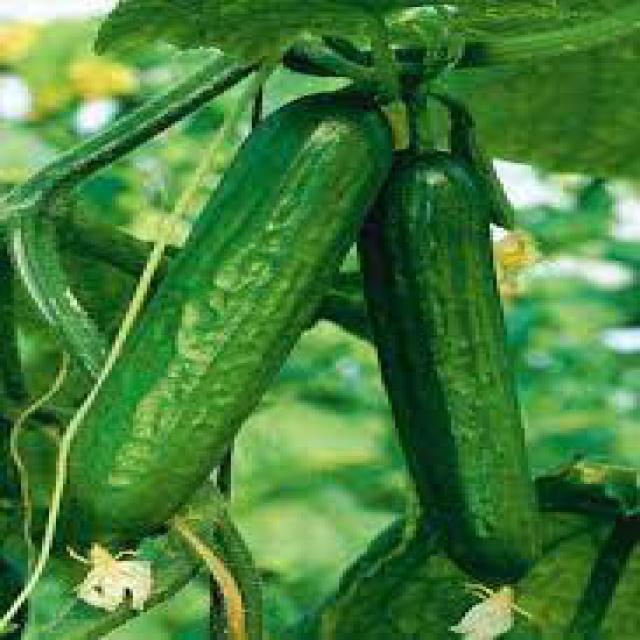cucumber: (59, 86, 360, 549), (363, 142, 542, 580)
